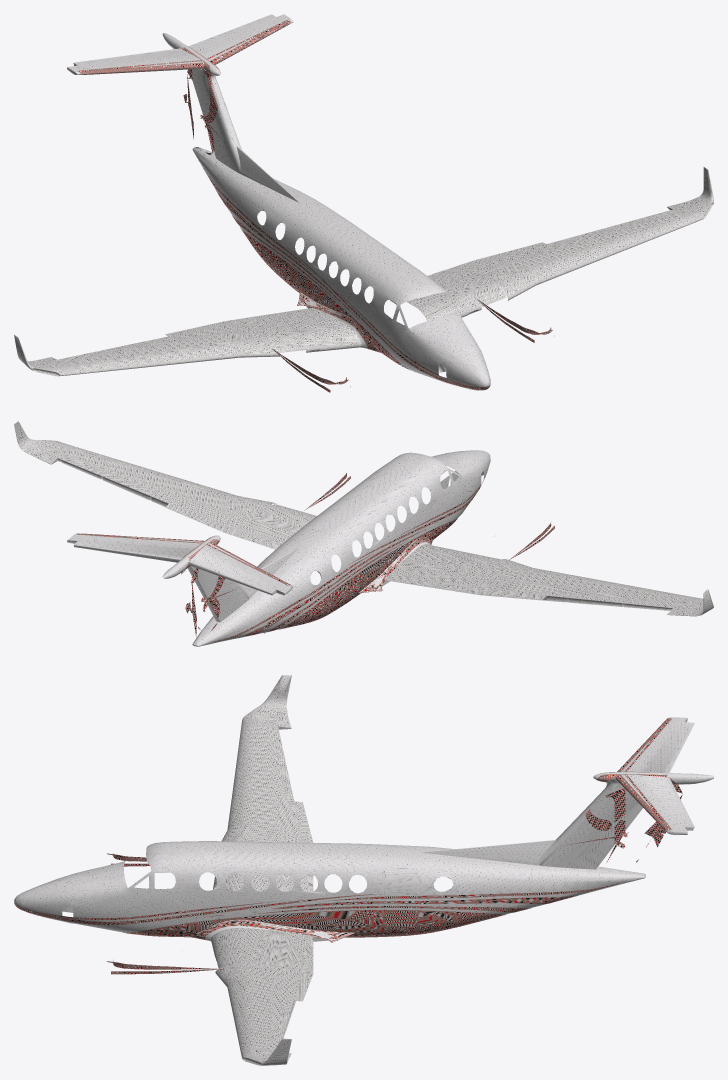
File: KINGAIR_350I_LOD6.gltf
The picture shows the model from 3 angles, top to bottom: view 1: azimuth 30°, elevation 25°; view 2: azimuth 150°, elevation 25°; view 3: azimuth 270°, elevation 25°; orthographic projection. The views are drawn at different scales.
Parts seen in each view (by area): view 1: fuselage, Wings, fuselage_livery; view 2: fuselage, Wings, fuselage_livery; view 3: fuselage, Wings, fuselage_livery.
Boxes of the visible parts, x1,y1,x2,y2 form: fuselage: (67, 14, 490, 390); Wings: (14, 167, 713, 376); fuselage_livery: (78, 19, 554, 392); fuselage: (67, 450, 490, 646); Wings: (14, 421, 713, 616); fuselage_livery: (78, 473, 554, 641); fuselage: (14, 717, 713, 941); Wings: (211, 675, 313, 1065); fuselage_livery: (14, 718, 677, 974).
Size of the model in its own units: 17.56 by 3.51 by 14.26.
